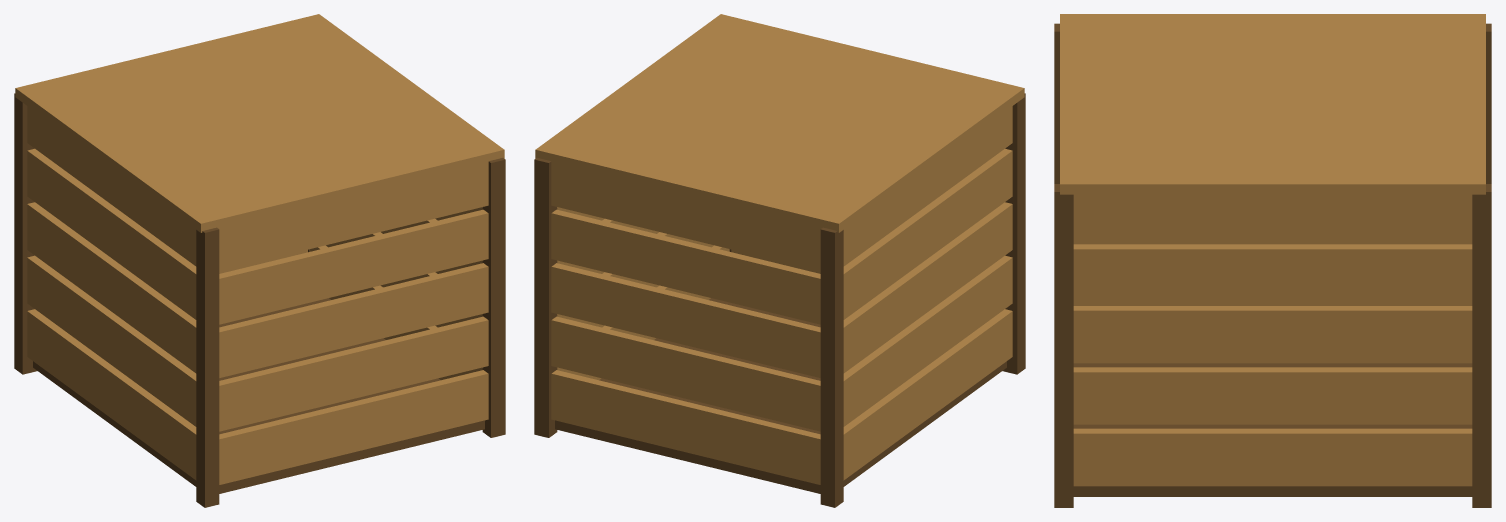
Rendered from sh_crate.glb.
3 renders of one model, left to right at view 1: azimuth 30°, elevation 25°; view 2: azimuth 150°, elevation 25°; view 3: azimuth 270°, elevation 25°, orthographic. The views are drawn at different scales.
Parts seen in each view (by area): view 1: deck, floor; view 2: deck, floor; view 3: deck, floor.
Part boxes in pixels (x1,y1,x2,y2): deck: (15, 14, 504, 484); floor: (14, 93, 505, 507); deck: (535, 14, 1024, 484); floor: (534, 93, 1025, 507); deck: (1060, 14, 1485, 486); floor: (1054, 23, 1491, 507).
Size of the model in its own units: 1.04 by 0.925 by 1.13.
